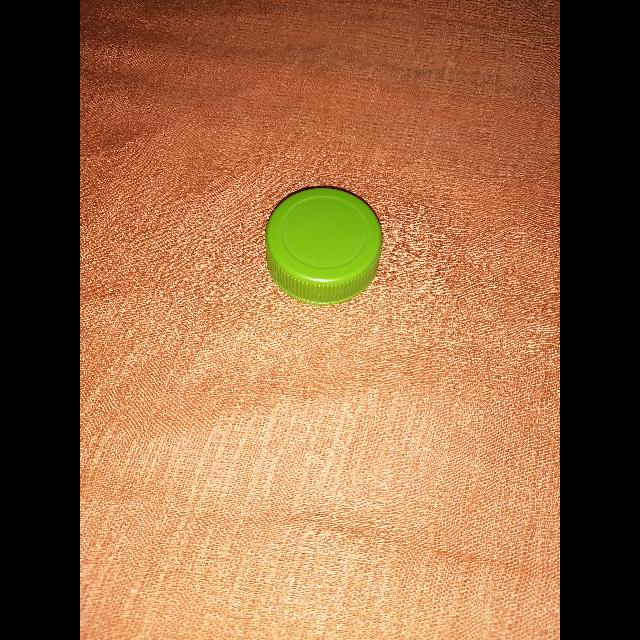plastic_bottle_cap: (264, 185, 384, 302)
